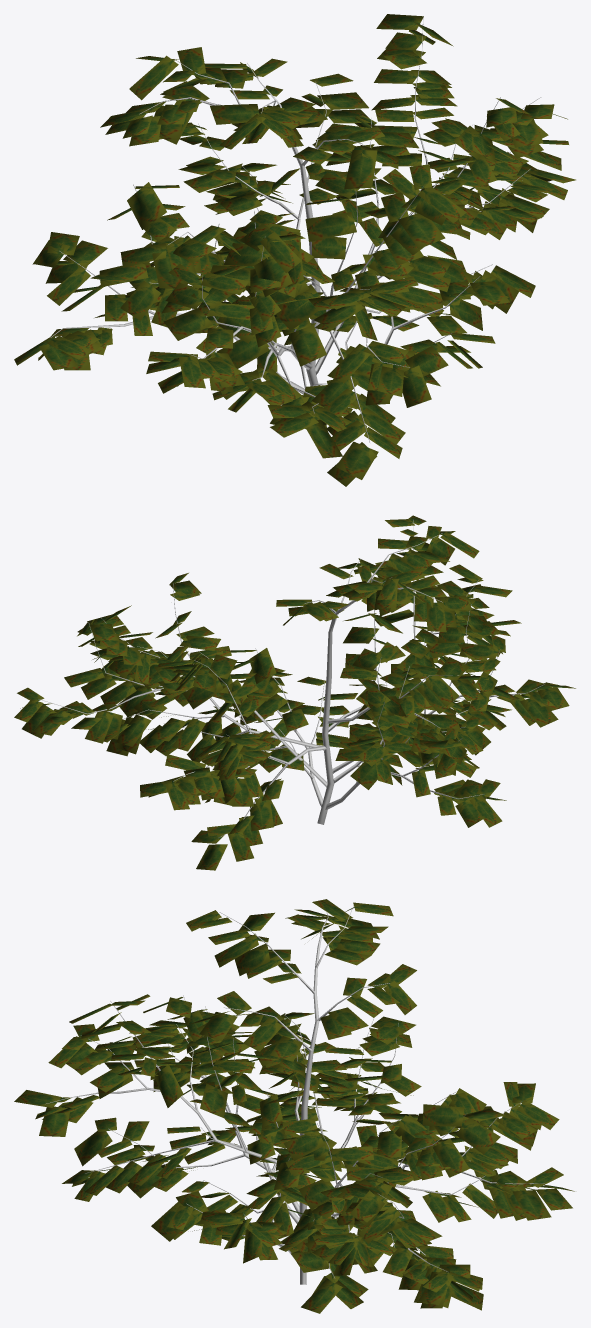
Rendered from SM_Bush.fbx.
3 renders of one model, top to bottom at view 1: azimuth 30°, elevation 25°; view 2: azimuth 150°, elevation 25°; view 3: azimuth 270°, elevation 25°, orthographic. The views are drawn at different scales.
Visible parts, largest first — view 1: SM_Bush_LOD0; view 2: SM_Bush_LOD0; view 3: SM_Bush_LOD0.
Boxes of the visible parts, bbox=[...] form: SM_Bush_LOD0: bbox=[14, 14, 575, 486]; SM_Bush_LOD0: bbox=[14, 515, 575, 870]; SM_Bush_LOD0: bbox=[14, 899, 574, 1313].
Size of the model in its own units: 337 by 316 by 203.
